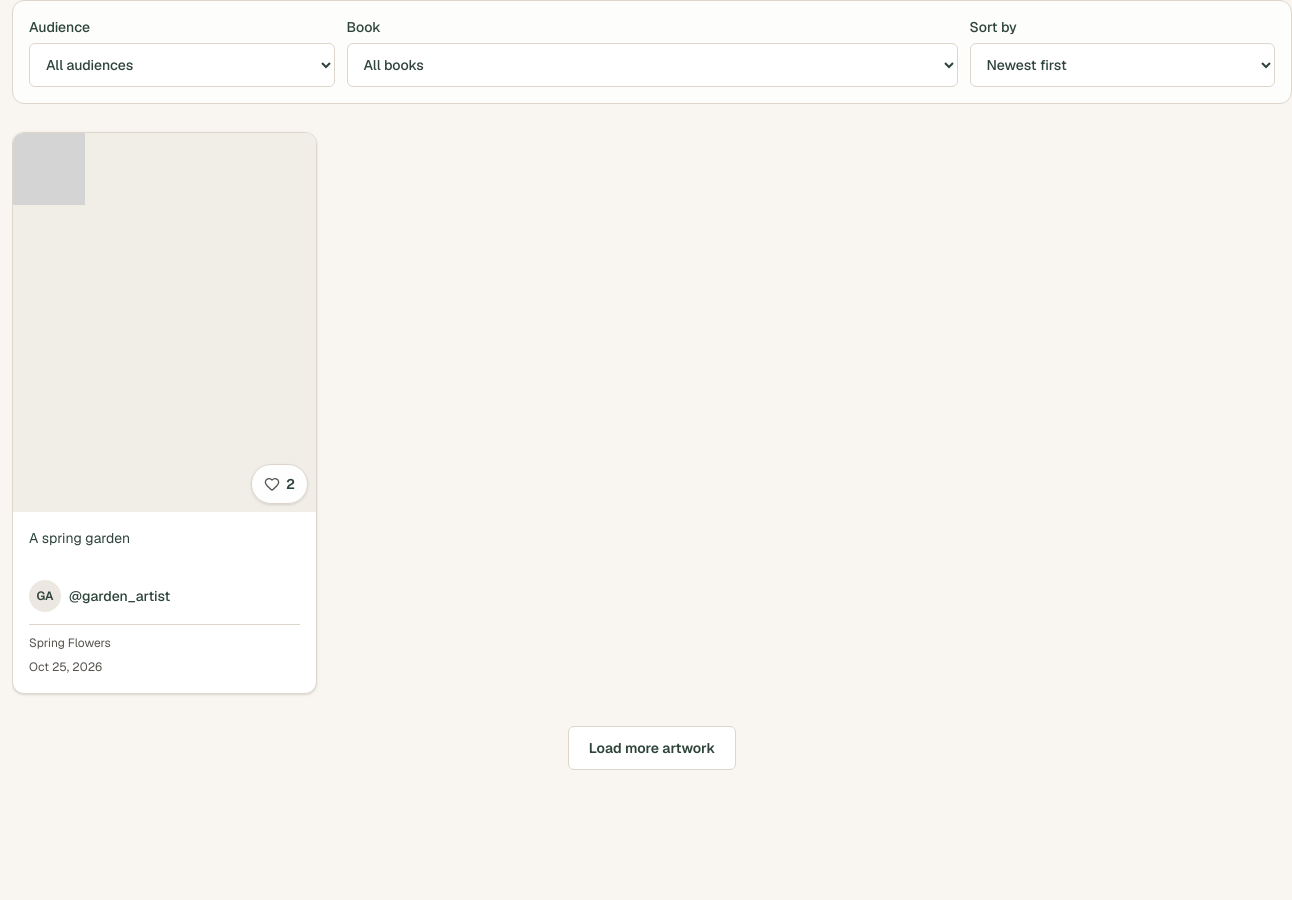
Test case: public Coloring Club gallery › keeps current cards and exposes a retry when loading the next page fails
The width and height of the screenshot is (1292, 900).
Click the button with test id "community-gallery-load-more".
click(652, 748)  # box [568,726,736,770]
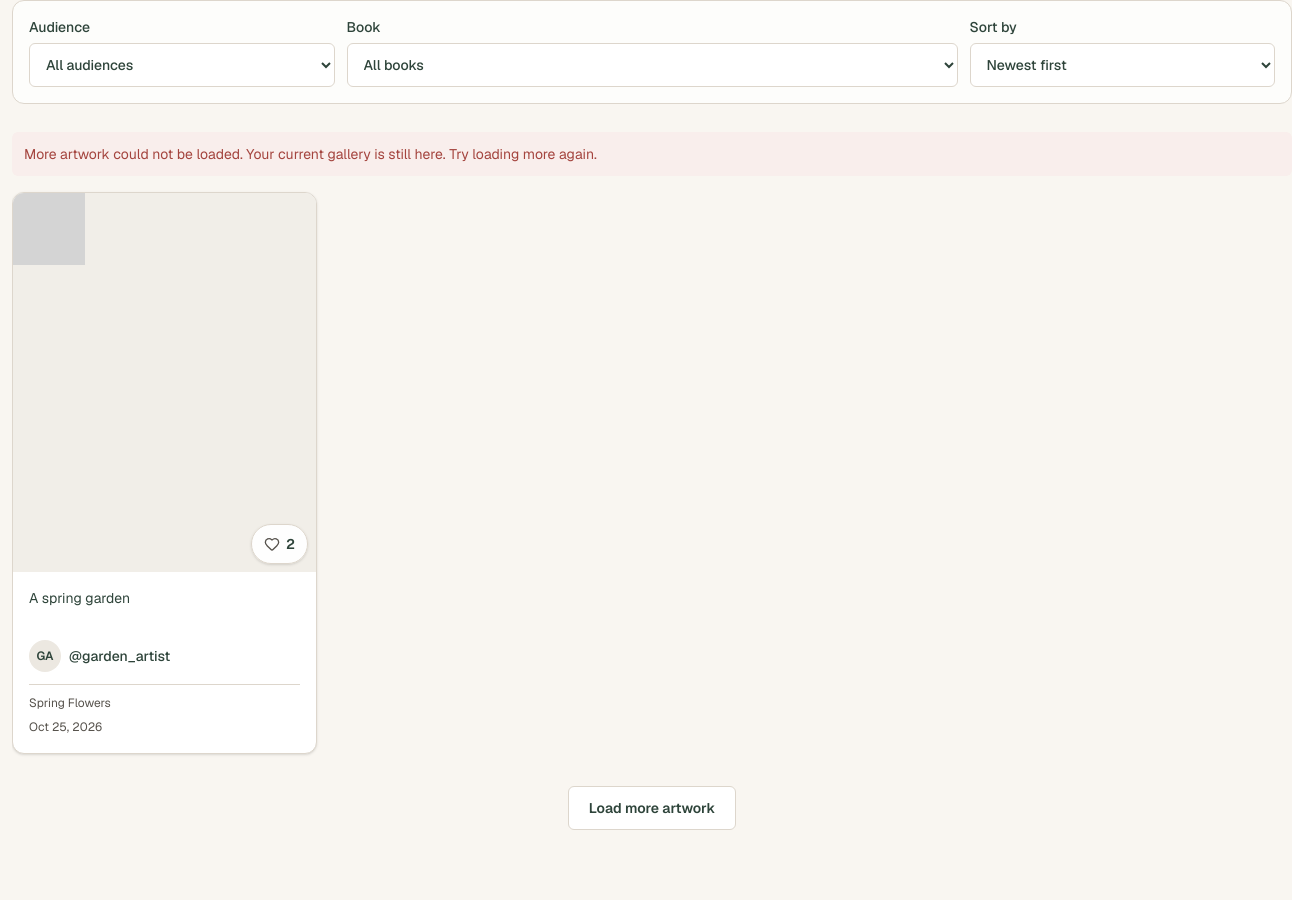
Expected: the text "A spring garden" is shown, [29,589,130,607]
Expected: the message shows "current gallery is still here", [24,145,597,163]
Click the button with test id "community-gallery-load-more".
click(652, 808)  # box [568,786,736,830]
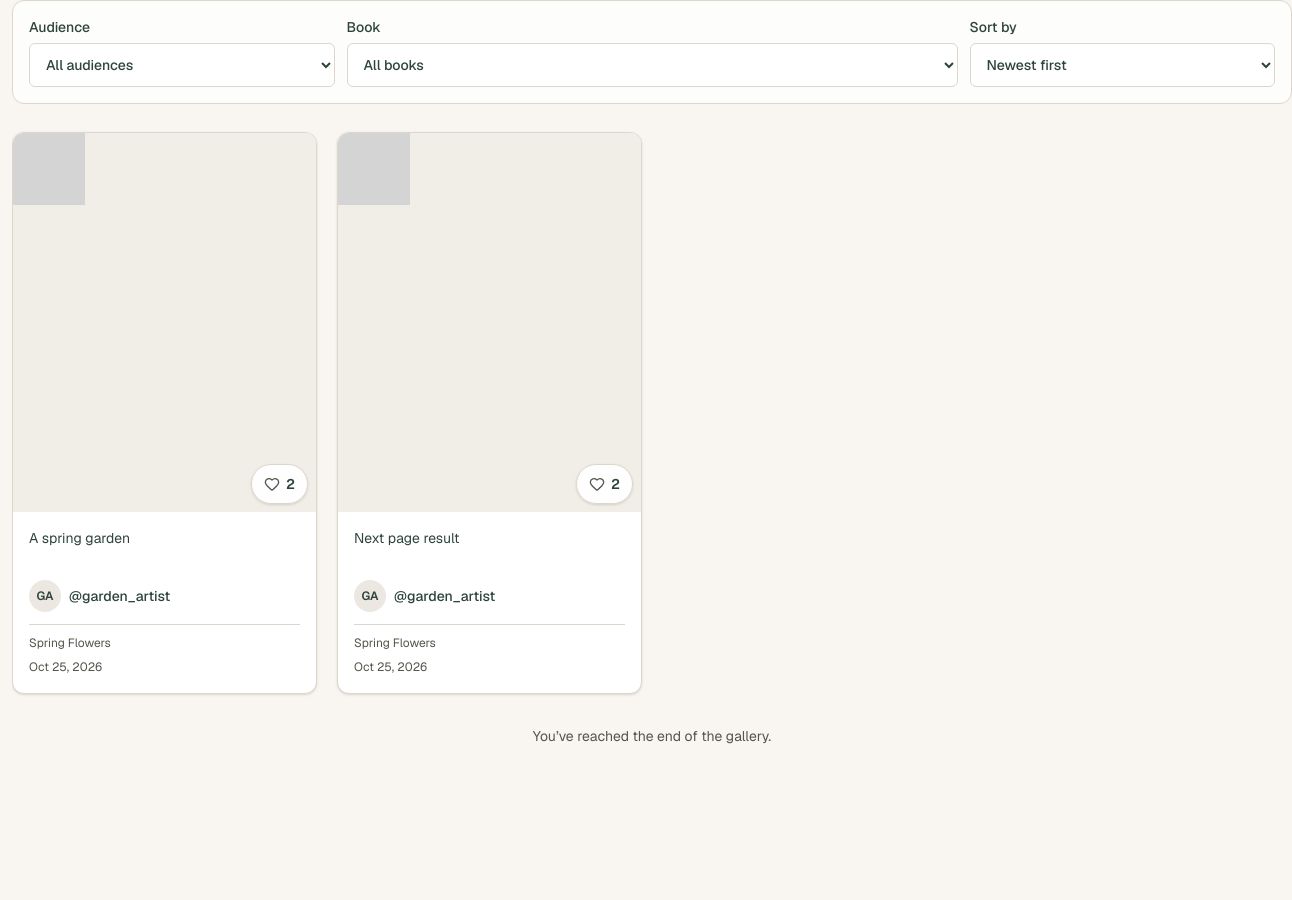
Expected: the text "A spring garden" is shown, [29,529,130,547]
Expected: the text "Next page result" is shown, [354,529,460,547]
